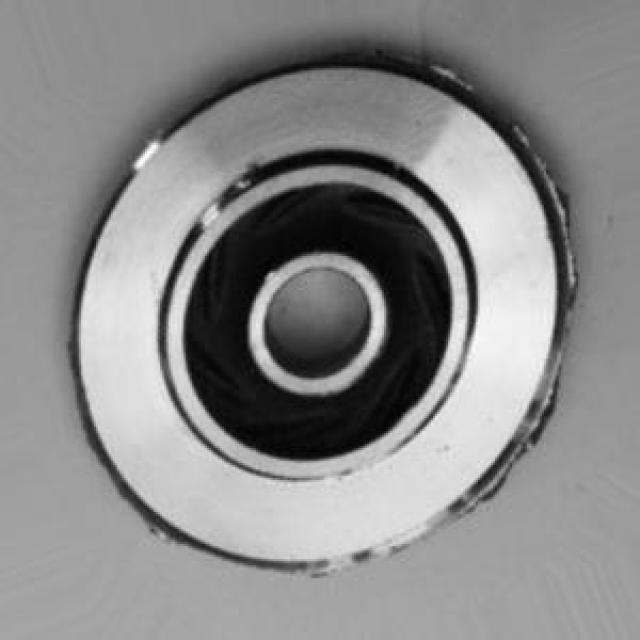Defect: (504, 378, 574, 457)
